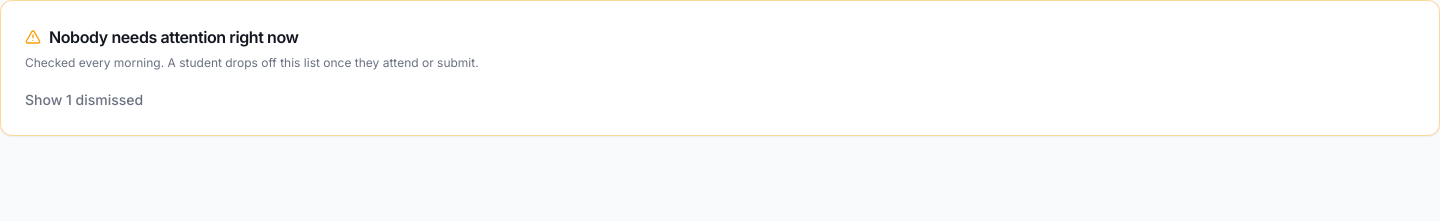
Test: StudentRiskPanel › keeps dismissed students out of the count and behind a toggle
The width and height of the screenshot is (1440, 221).
Check: the text "Nobody needs attention right now" is shown, box [25,27,299,47]
Check: the text "Ada Obi" is not shown
Click the button "Show 1 dismissed" at (84, 100), box [25,90,143,110]
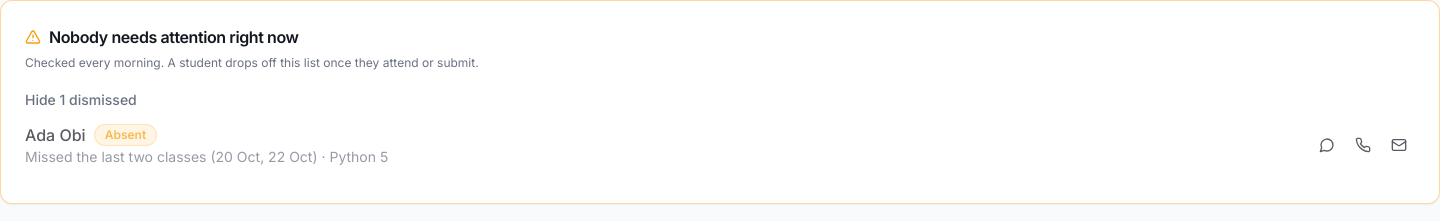
Check: the text "Ada Obi" is shown, box [25,125,86,145]
